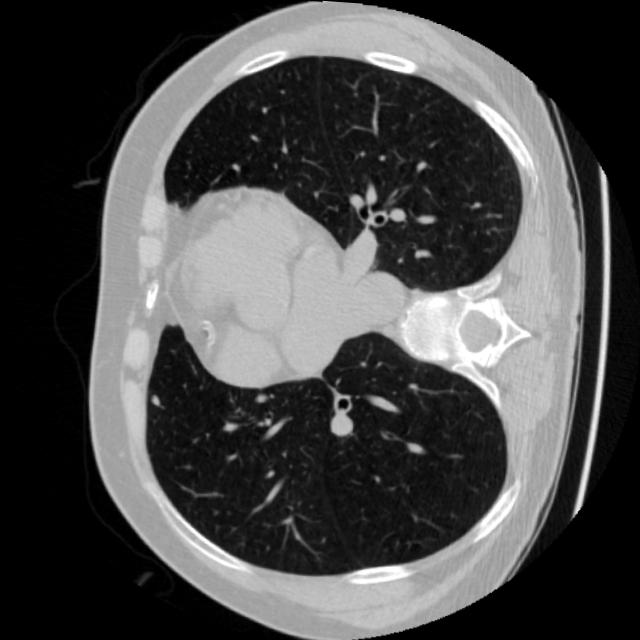nodule: (144, 391, 164, 412)
